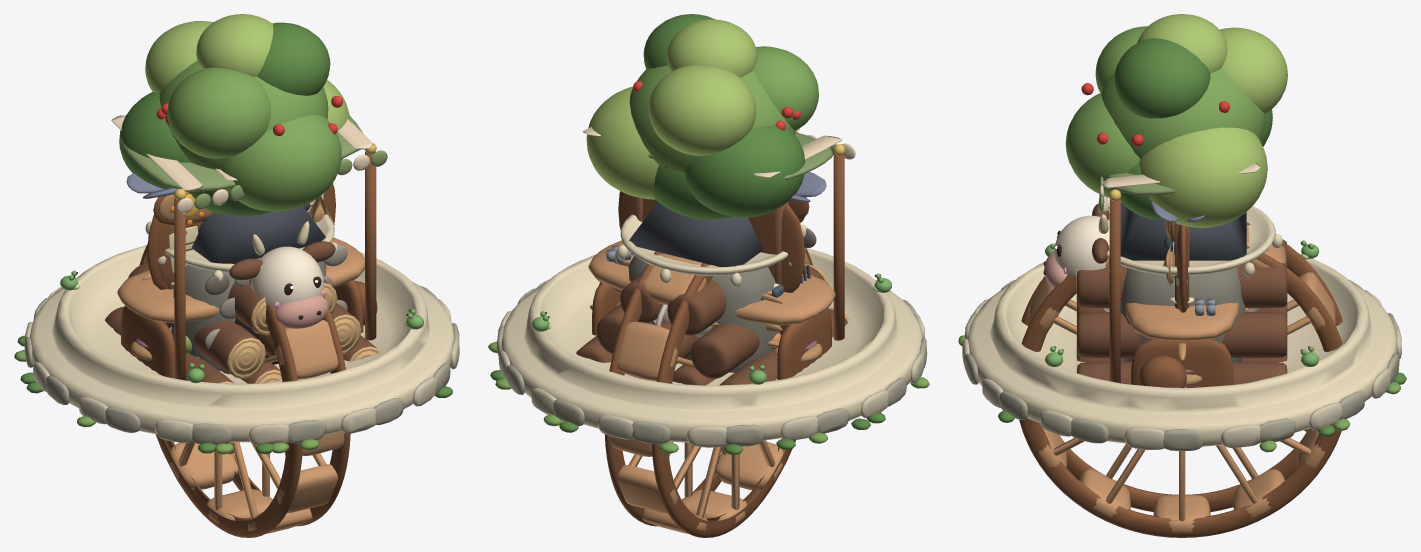
The model's file is granja_pueblo.glb.
The picture shows the model from 3 angles, left to right: view 1: azimuth 30°, elevation 25°; view 2: azimuth 150°, elevation 25°; view 3: azimuth 270°, elevation 25°; orthographic projection. The views are drawn at different scales.
Parts seen in each view (by area): view 1: columna, copa 0, paleta 0, copa 2, aro rueda -1, campana fragua, tronco 00, caja mercado 0 tabla -10, anillo 0.62, laja 1, copa 2.001, tablero taller (+18 smaller); view 2: columna, copa 1, paleta 0, copa 2, tronco 00, aro rueda -1, copa 0, campana fragua, laja 1, anillo 0.62, tablero taller, copa 2.001 (+12 smaller); view 3: columna, copa 1, aro rueda -1, copa 0, tronco 00, paleta 0, copa 2, campana fragua, anillo 0.62, laja 1, fragua cuerpo, tablero taller (+10 smaller).
Boxes of the visible parts, x1,y1,x2,y2 form: columna: [30, 214, 454, 442]; copa 0: [159, 61, 341, 211]; paleta 0: [143, 251, 344, 533]; copa 2: [119, 22, 330, 189]; aro rueda -1: [139, 243, 350, 537]; campana fragua: [192, 206, 325, 263]; tronco 00: [105, 263, 376, 383]; caja mercado 0 tabla -10: [174, 152, 376, 380]; anillo 0.62: [24, 286, 459, 445]; laja 1: [25, 286, 459, 445]; copa 2.001: [196, 14, 273, 76]; tablero taller: [117, 237, 364, 323]; columna: [501, 214, 922, 442]; copa 1: [586, 65, 756, 199]; paleta 0: [610, 253, 809, 533]; copa 2: [643, 14, 805, 217]; tronco 00: [576, 266, 847, 385]; aro rueda -1: [604, 248, 812, 537]; copa 0: [629, 46, 818, 171]; campana fragua: [629, 202, 762, 266]; laja 1: [498, 279, 925, 447]; anillo 0.62: [496, 288, 927, 446]; tablero taller: [588, 240, 835, 325]; copa 2.001: [666, 19, 757, 77]; columna: [967, 202, 1396, 446]; copa 1: [1139, 27, 1287, 227]; aro rueda -1: [1019, 222, 1342, 537]; copa 0: [1065, 26, 1266, 197]; tronco 00: [1077, 239, 1287, 384]; paleta 0: [1028, 226, 1335, 532]; copa 2: [1114, 38, 1272, 146]; campana fragua: [1120, 202, 1246, 260]; anillo 0.62: [965, 279, 1399, 450]; laja 1: [962, 289, 1401, 449]; fragua cuerpo: [1120, 267, 1245, 361]; tablero taller: [1125, 302, 1238, 340].
Size of the model in its own units: 4.66 by 5.84 by 4.68.
